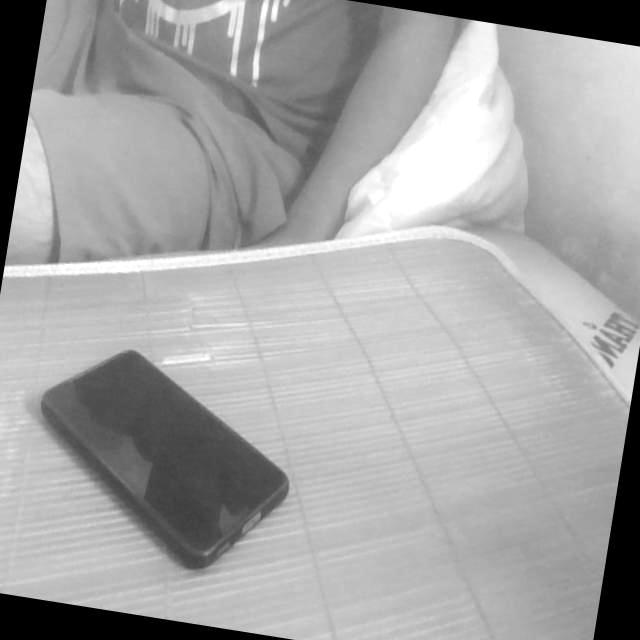phone: (9, 323, 310, 587)
